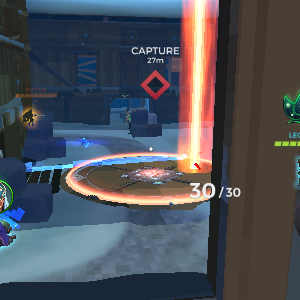model: (22, 104, 37, 127)
